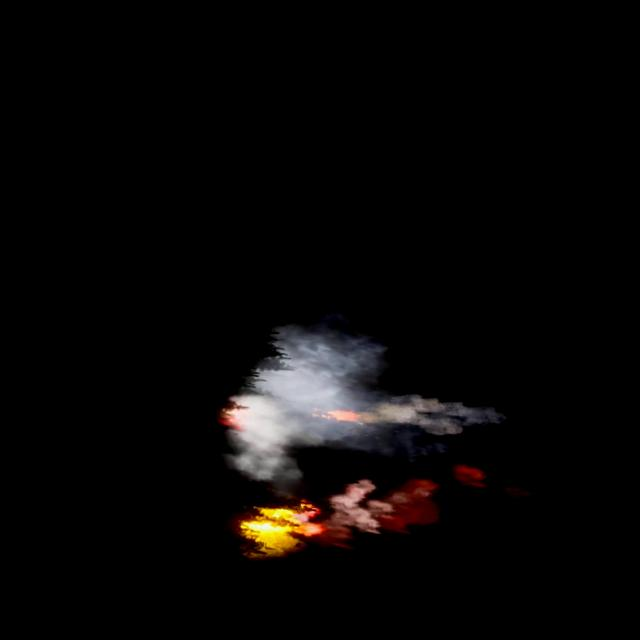fire: (232, 492, 328, 549), (323, 406, 360, 422)
smoke: (215, 319, 504, 509), (300, 458, 472, 559)
